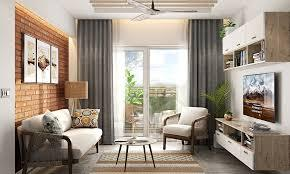TV: (241, 74, 282, 123)
chair: (163, 105, 212, 151), (152, 107, 177, 132), (124, 103, 142, 134)
console: (215, 116, 290, 174)
door: (143, 48, 190, 135)
fan: (122, 0, 199, 24)
light: (64, 79, 89, 115)
sofa: (15, 107, 104, 174)
table: (114, 136, 156, 170)
